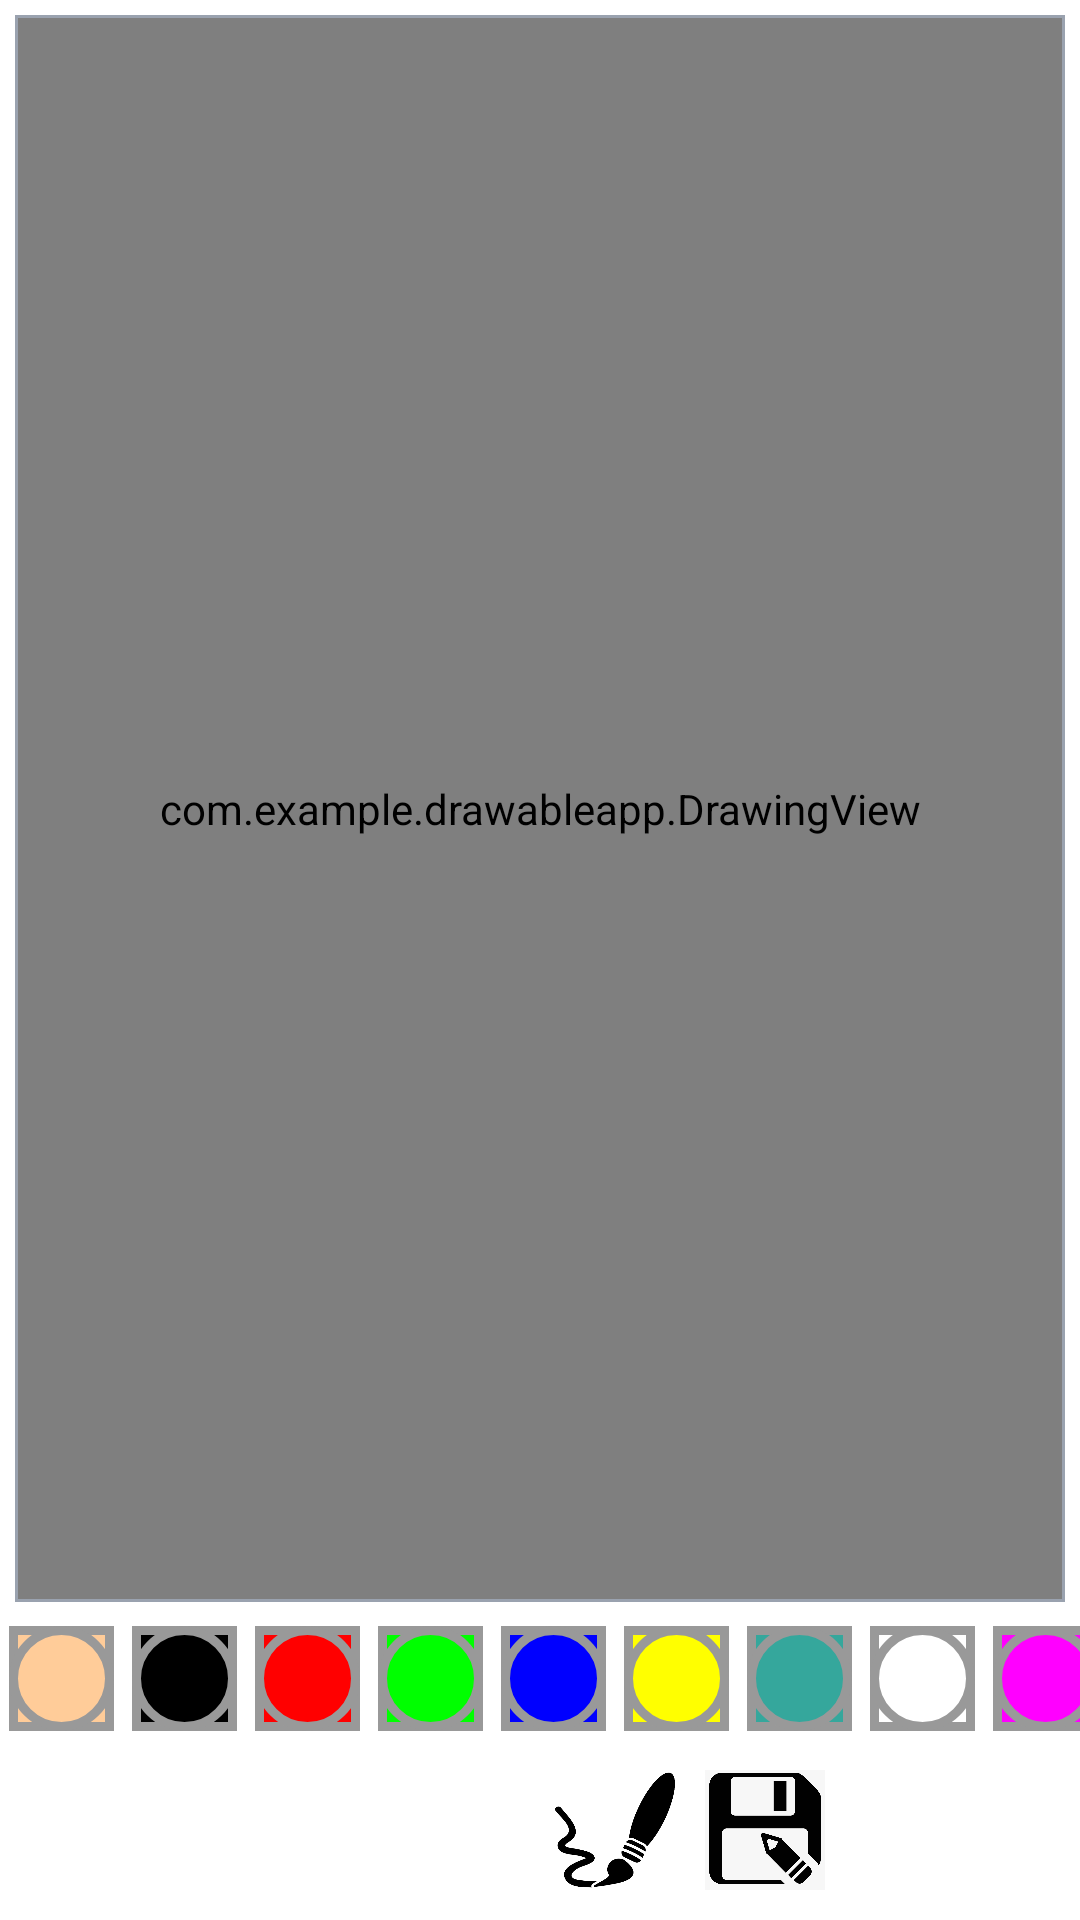

Locate icon controls on the screen. Image size 1080px×1920px, boxes as (x1, y1, x2, y2).
brush size: (555, 1772, 675, 1888)
save: (709, 1773, 821, 1884)
